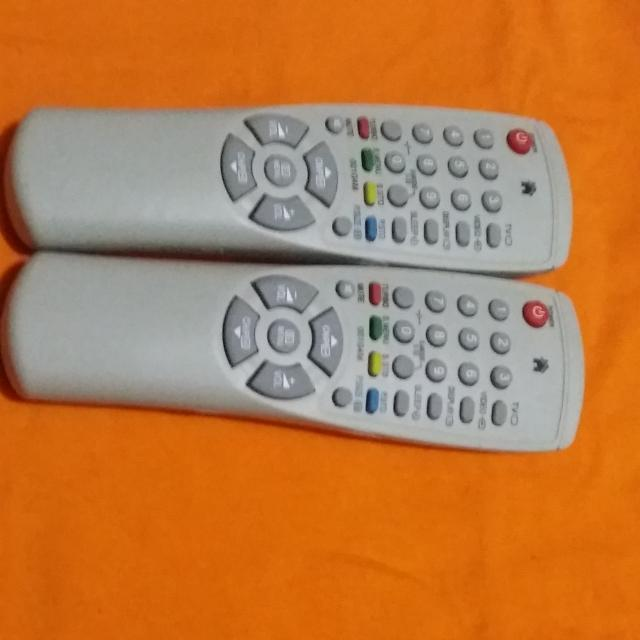remote: (8, 254, 583, 447), (0, 99, 567, 269)
